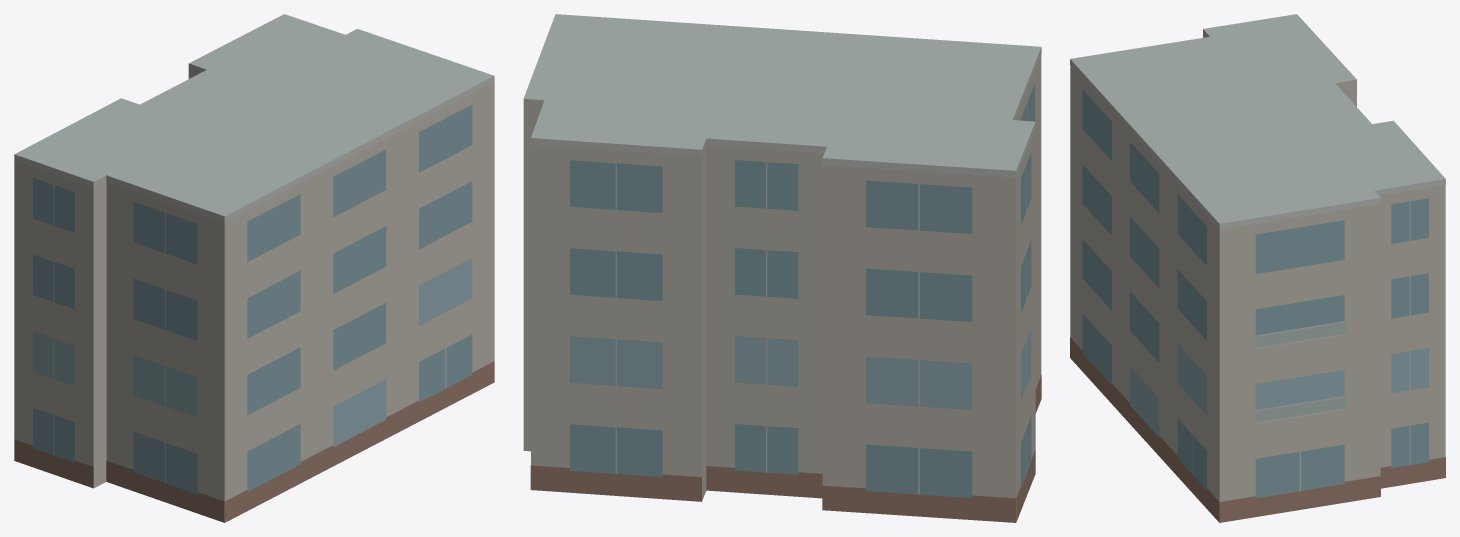
Rendered from survey-upis-32857440.glb.
3 views of the same model, side by side, from view 1: azimuth 30°, elevation 25°; view 2: azimuth 150°, elevation 25°; view 3: azimuth 270°, elevation 25° (orthographic). The views are drawn at different scales.
Visible parts, largest first — view 1: survey-upis-32857440.tmp; view 2: survey-upis-32857440.tmp; view 3: survey-upis-32857440.tmp.
Part boxes in pixels (x1=…): survey-upis-32857440.tmp: x1=14, y1=14, x2=494, y2=522; survey-upis-32857440.tmp: x1=523, y1=14, x2=1041, y2=522; survey-upis-32857440.tmp: x1=1070, y1=14, x2=1445, y2=522.
Size of the model in its own units: 18.37 by 12.2 by 13.9.
